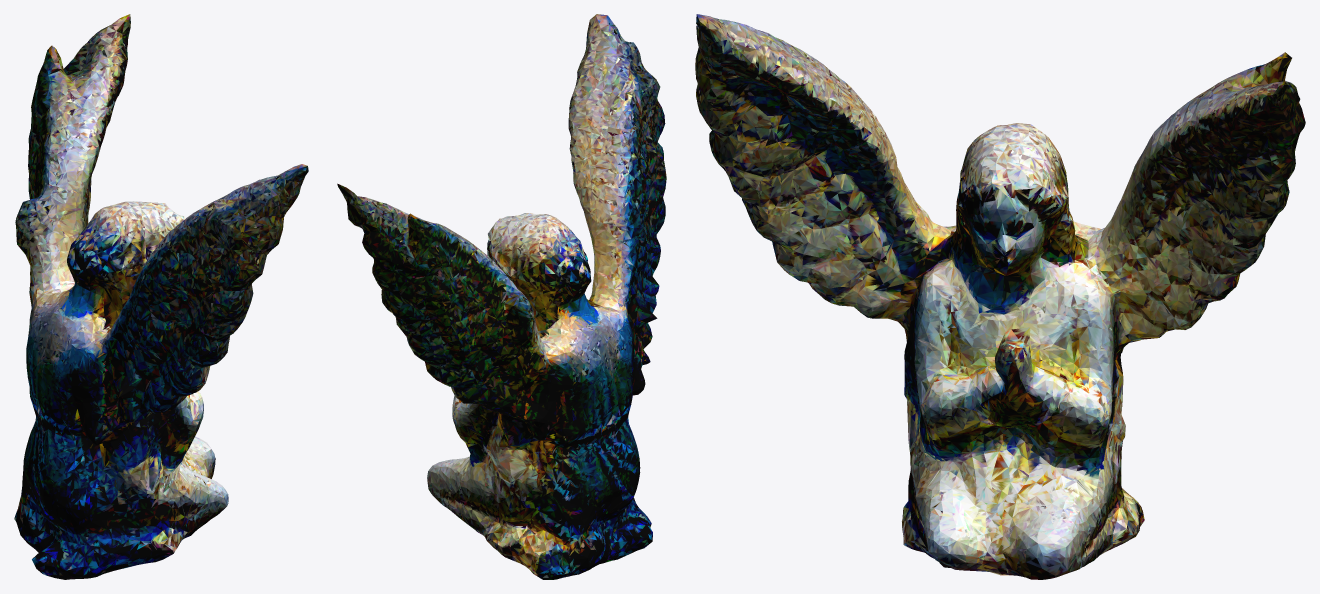
The model's file is angel-canny.glb.
3 renders of one model, left to right at view 1: azimuth 30°, elevation 25°; view 2: azimuth 150°, elevation 25°; view 3: azimuth 270°, elevation 25°, orthographic. The views are drawn at different scales.
Parts seen in each view (by area): view 1: extracted_mesh; view 2: extracted_mesh; view 3: extracted_mesh.
Boxes of the visible parts, <box> form: extracted_mesh: <box>14,14,308,579</box>; extracted_mesh: <box>337,14,666,579</box>; extracted_mesh: <box>695,14,1305,579</box>.
Size of the model in its own units: 0.5329 by 1.09 by 1.02.
Materials: 1 (1 with a texture image).
